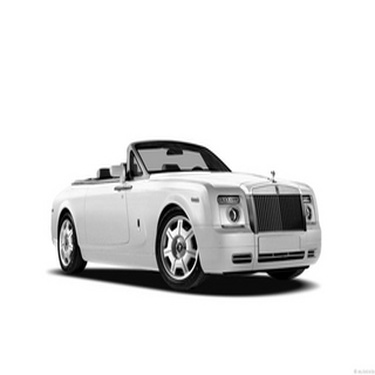car: (46, 133, 327, 301)
